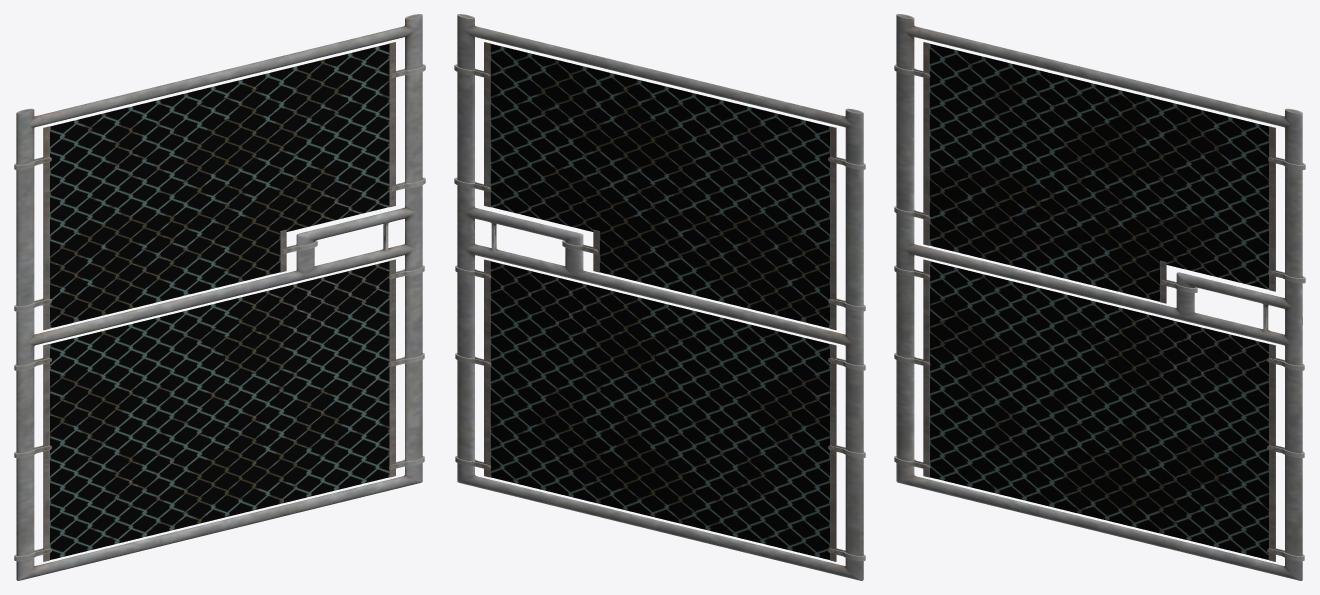
File: cagegate.glb
The picture shows the model from 3 angles, left to right: view 1: azimuth 30°, elevation 25°; view 2: azimuth 150°, elevation 25°; view 3: azimuth 330°, elevation 25°; orthographic projection.
Parts seen in each view (by area): view 1: modular_chainlink_fence_door_gate.001; view 2: modular_chainlink_fence_door_gate.001; view 3: modular_chainlink_fence_door_gate.001.
Boxes of the visible parts, bbox=[...] form: modular_chainlink_fence_door_gate.001: bbox=[14, 14, 425, 580]; modular_chainlink_fence_door_gate.001: bbox=[454, 14, 865, 580]; modular_chainlink_fence_door_gate.001: bbox=[894, 14, 1305, 580].
Bounding box in the file's own units: 2.5 × 2.73 × 0.0504.
Materials: 2 (2 with a texture image).
